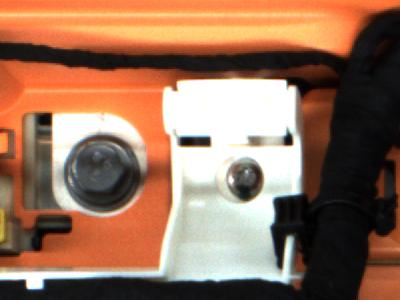nut_b: (59, 136, 145, 216)
